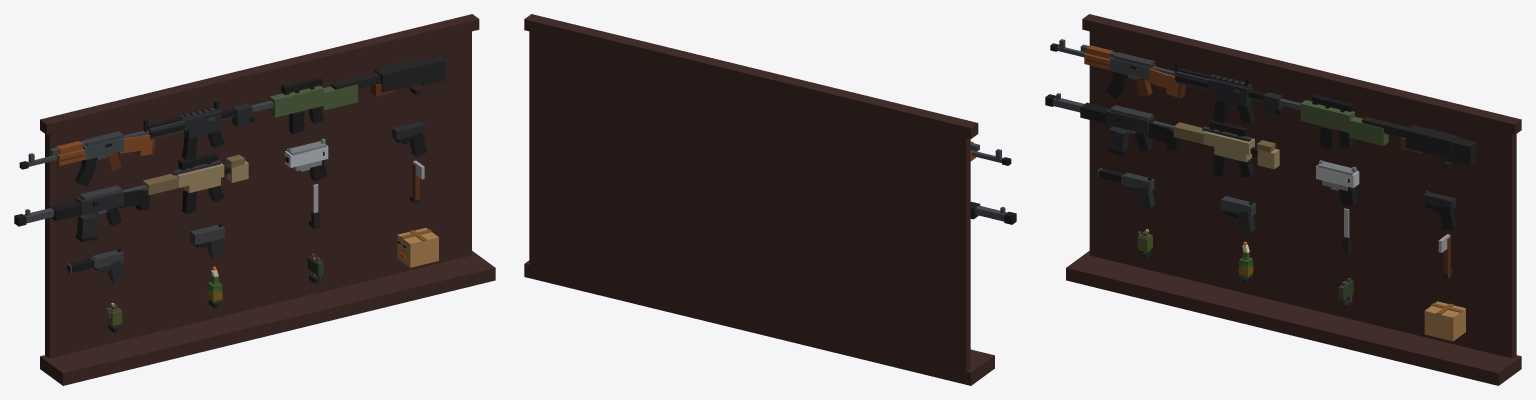
File: guns-arsenal-rack.glb
The picture shows the model from 3 angles, left to right: view 1: azimuth 30°, elevation 25°; view 2: azimuth 150°, elevation 25°; view 3: azimuth 330°, elevation 25°; orthographic projection. The views are drawn at different scales.
Visible parts, largest first — view 1: Weapons_Arsenal_Rack; view 2: Weapons_Arsenal_Rack; view 3: Weapons_Arsenal_Rack.
Boxes of the visible parts, bbox=[...] form: Weapons_Arsenal_Rack: bbox=[14, 14, 495, 385]; Weapons_Arsenal_Rack: bbox=[524, 14, 1016, 385]; Weapons_Arsenal_Rack: bbox=[1045, 14, 1521, 385].
Size of the model in its own units: 4.63 by 2.37 by 0.4.
